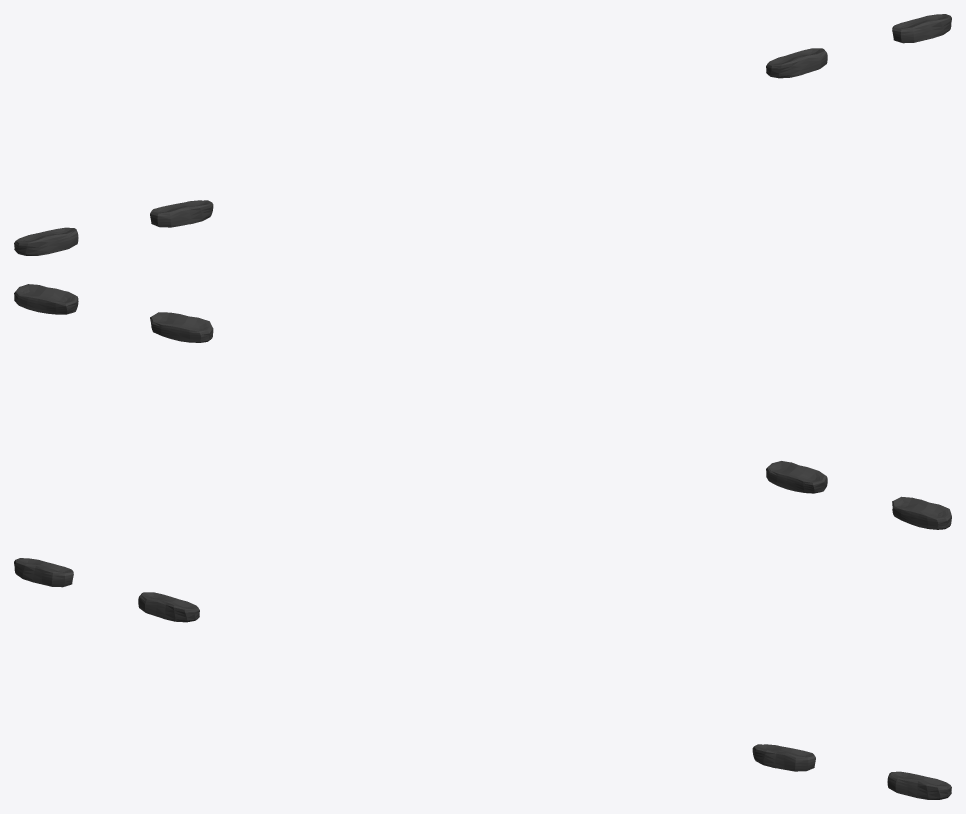
Rendered from b_HL_sesamoid_distal_L_LO.glb.
3 views of the same model, one above another, from view 1: azimuth 30°, elevation 25°; view 2: azimuth 150°, elevation 25°; view 3: azimuth 330°, elevation 25° (orthographic).
Visible parts, largest first — view 1: b_HL_sesamoid_distal_L_LO; view 2: b_HL_sesamoid_distal_L_LO; view 3: b_HL_sesamoid_distal_L_LO.
Part boxes in pixels (x1,y1,x2,y2): b_HL_sesamoid_distal_L_LO: [14, 14, 951, 255]; b_HL_sesamoid_distal_L_LO: [14, 284, 951, 529]; b_HL_sesamoid_distal_L_LO: [14, 558, 951, 799].
Size of the model in its own units: 0.00378 by 7.17e-05 by 0.000136.
1 material, 1 textured.
